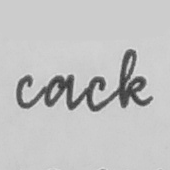a: (41, 72, 77, 112)
c: (84, 73, 110, 114), (12, 72, 37, 112)
k: (117, 47, 155, 111)
